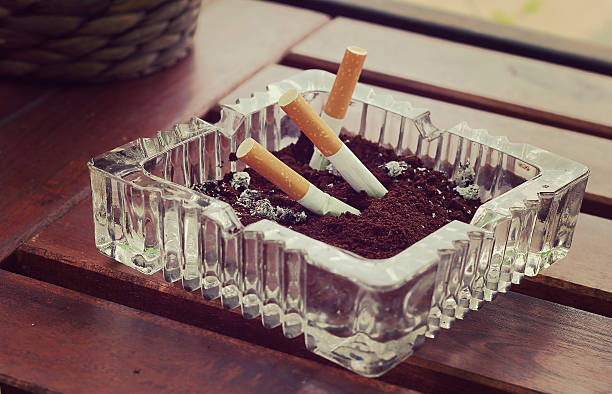cigarette: (279, 89, 388, 199), (236, 137, 363, 215), (309, 45, 369, 172)
